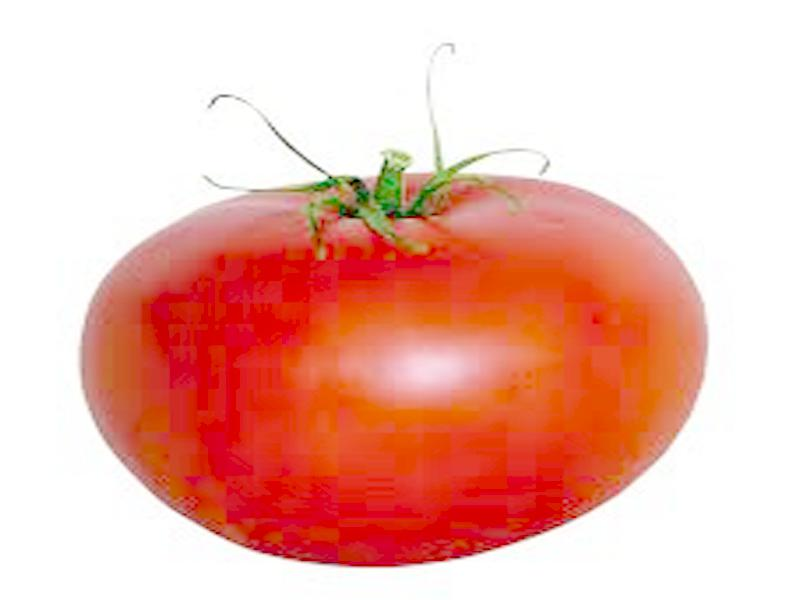Tomato: (81, 170, 712, 565)
